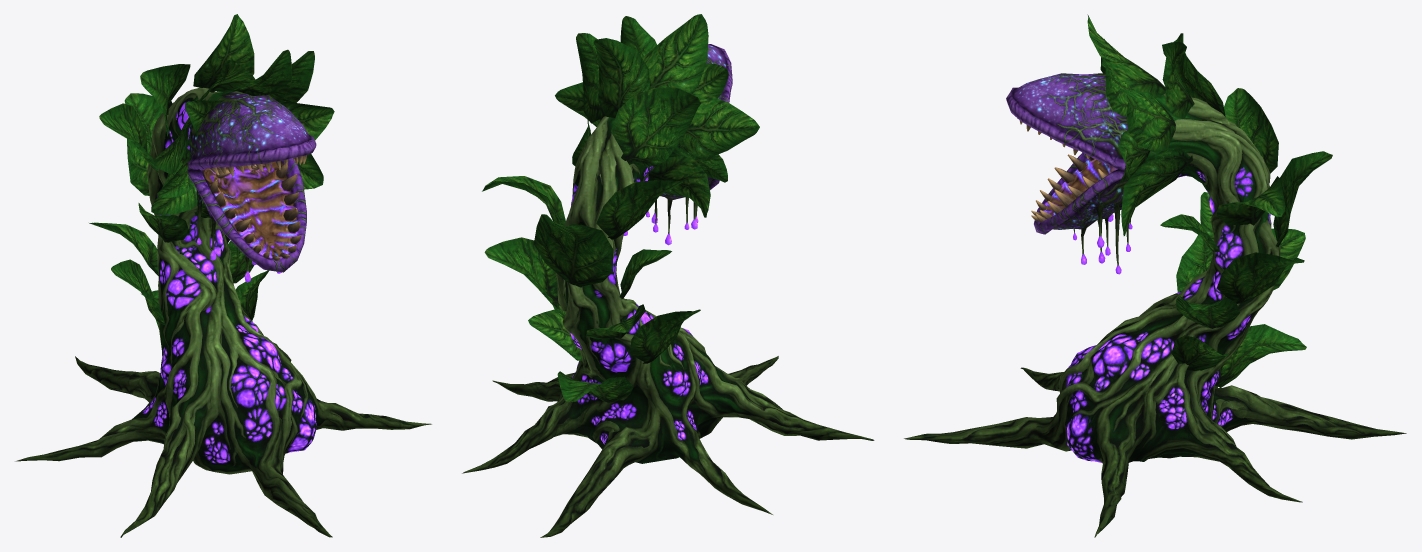
File: monster_plant.glb
The picture shows the model from 3 angles, left to right: view 1: azimuth 30°, elevation 25°; view 2: azimuth 150°, elevation 25°; view 3: azimuth 270°, elevation 25°; orthographic projection.
Visible parts, largest first — view 1: Object_2, Object_3; view 2: Object_3, Object_2; view 3: Object_2, Object_3.
Boxes of the visible parts, <box> form: Object_2: <box>15,87,431,537</box>; Object_3: <box>89,14,334,328</box>; Object_3: <box>482,14,759,402</box>; Object_2: <box>462,44,874,537</box>; Object_2: <box>904,73,1406,537</box>; Object_3: <box>1017,14,1332,387</box>.
Size of the model in its own units: 143 by 164 by 175.
1 material, 1 textured.
